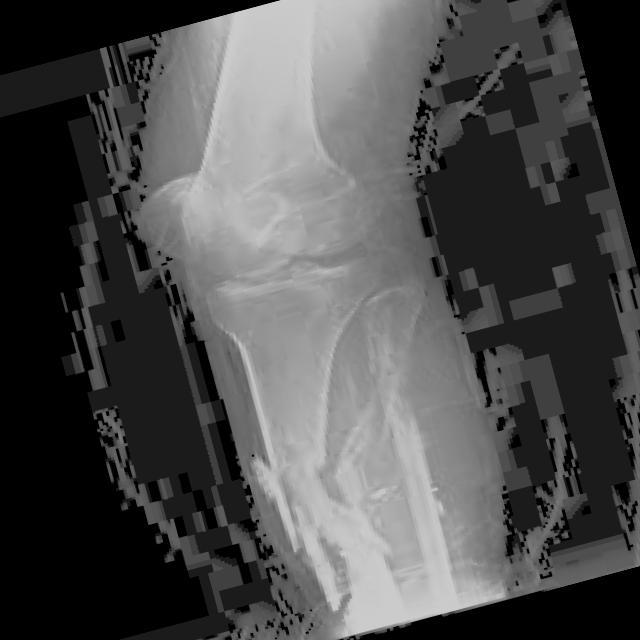Comminuted Fracture: (234, 440, 336, 559), (290, 589, 381, 626)
